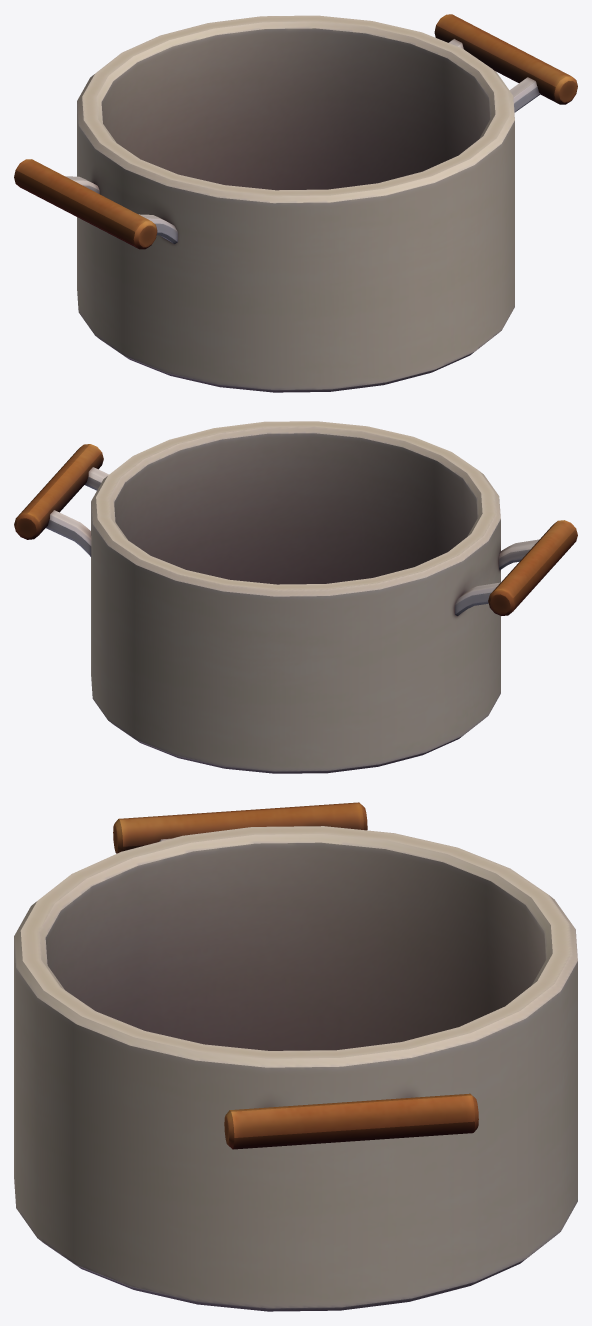
Rendered from Pot.fbx.
3 views of the same model, one above another, from view 1: azimuth 30°, elevation 25°; view 2: azimuth 150°, elevation 25°; view 3: azimuth 270°, elevation 25° (orthographic). The views are drawn at different scales.
Visible parts, largest first — view 1: Pot.001; view 2: Pot.001; view 3: Pot.001.
Part boxes in pixels (box(x1,y1,x2,y2)): Pot.001: box(14, 14, 577, 392); Pot.001: box(14, 421, 577, 773); Pot.001: box(14, 802, 577, 1311).
Bounding box in the file's own units: 172 × 62.37 × 126.
